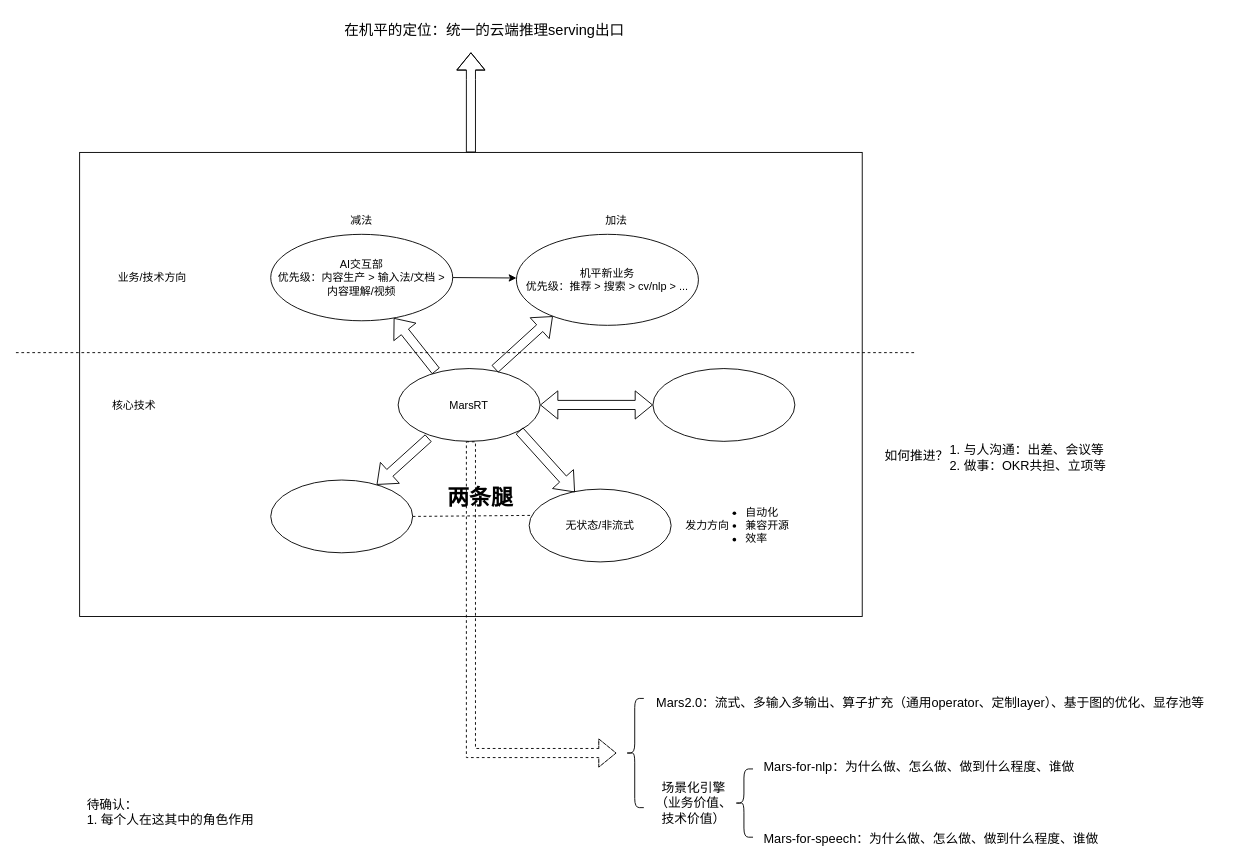
This 1233x867 diagram has some shape labels left out. Here are the shapes that lost their labels. From the top down, the box of each, then its label:
(652, 368, 795, 441): 周边团队：Venus（rondaserving、triton）
(270, 479, 413, 553): 有状态/流式
